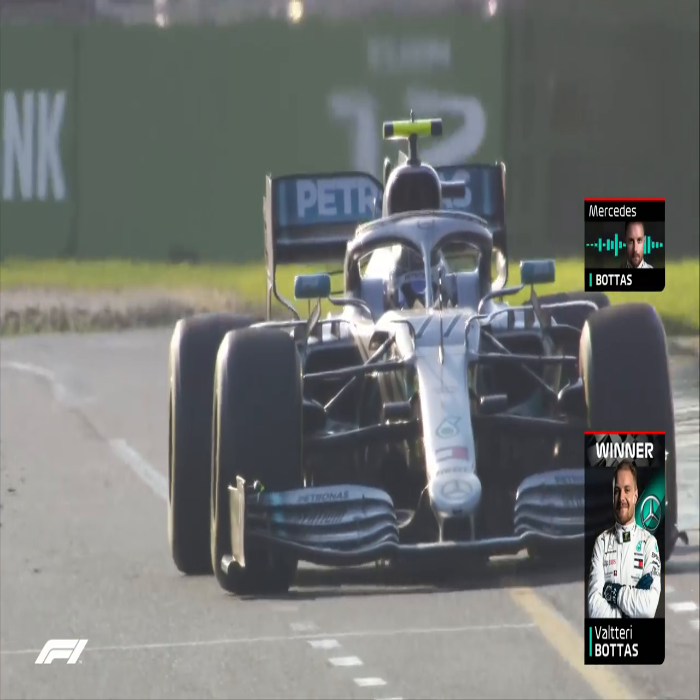f1_car: (155, 105, 687, 603)
